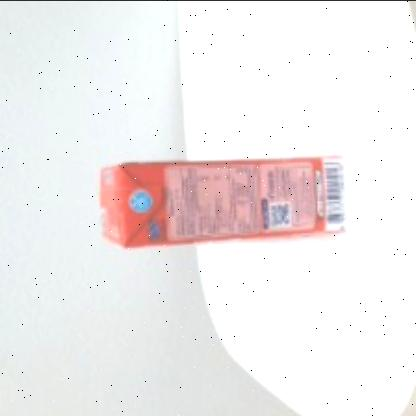Others: (92, 140, 356, 262)
